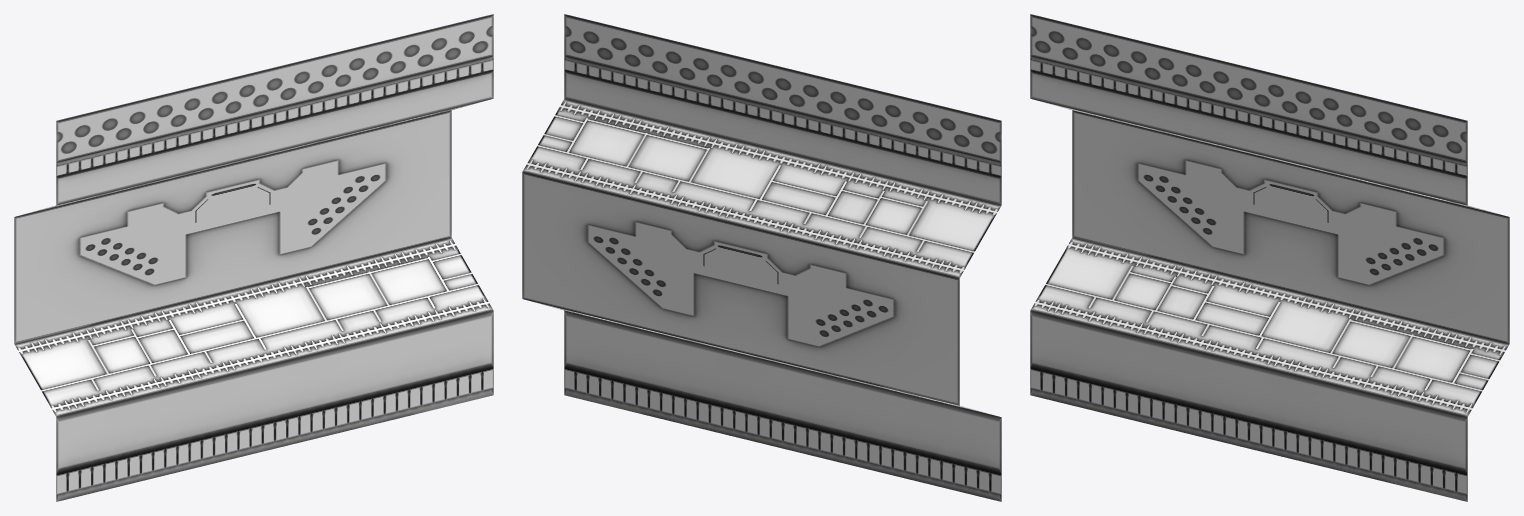
The model's file is wallV1.fbx.
3 renders of one model, left to right at view 1: azimuth 30°, elevation 25°; view 2: azimuth 150°, elevation 25°; view 3: azimuth 330°, elevation 25°, orthographic.
Parts seen in each view (by area): view 1: WallV1; view 2: WallV1; view 3: WallV1.
Boxes of the visible parts, x1,y1,x2,y2 form: WallV1: (14,14,493,501); WallV1: (522,14,1001,501); WallV1: (1030,14,1509,501).
Bounding box in the file's own units: 600 × 500 × 100.
Materials: 1 (1 with a texture image).
